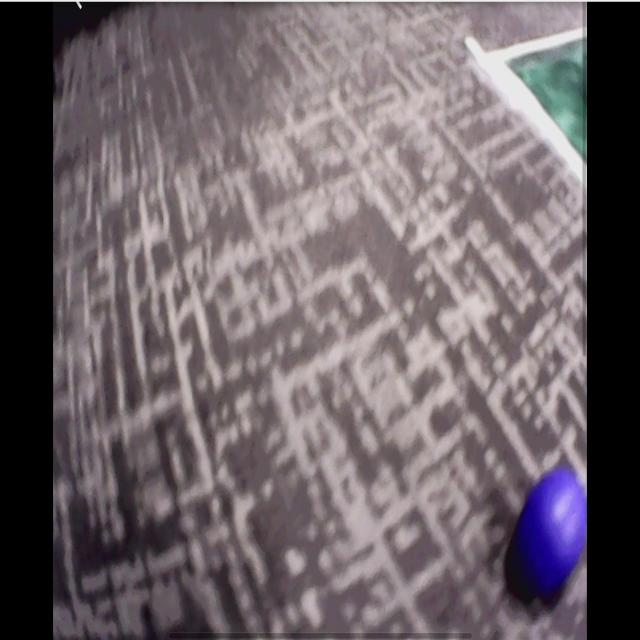ball: (526, 472, 586, 591)
